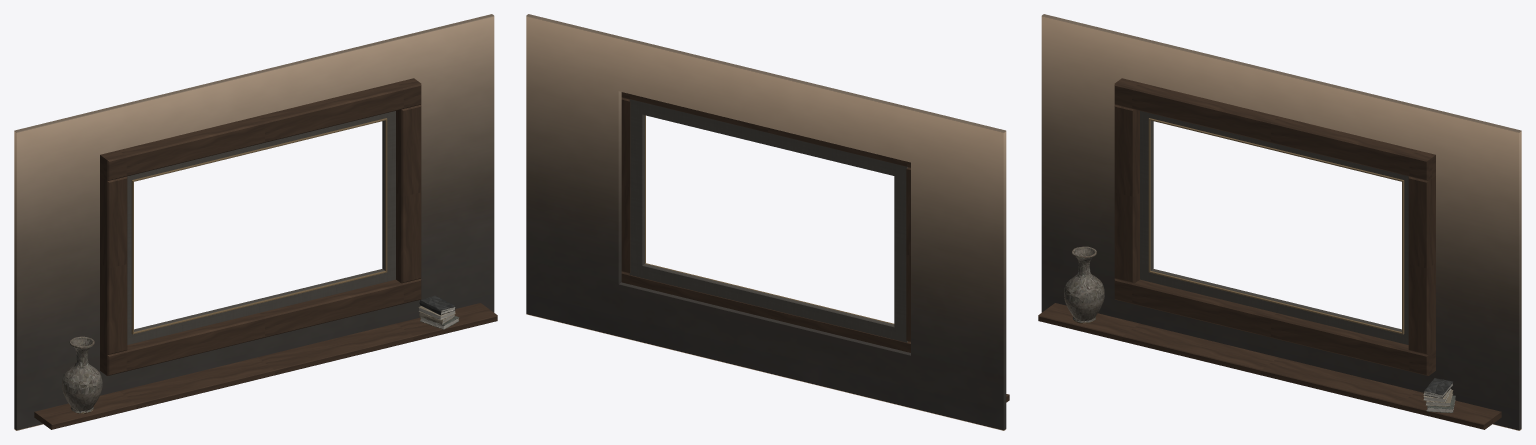
File: walnut.glb
3 renders of one model, left to right at view 1: azimuth 30°, elevation 25°; view 2: azimuth 150°, elevation 25°; view 3: azimuth 330°, elevation 25°, orthographic.
Parts seen in each view (by area): view 1: wall-panel, frame, ledge, slip, fillet, prop-vase, prop-books; view 2: wall-panel, slip, frame, fillet; view 3: wall-panel, frame, ledge, slip, fillet, prop-vase, prop-books.
Boxes of the visible parts, x1,y1,x2,y2 form: wall-panel: [14, 14, 494, 430]; frame: [100, 78, 421, 375]; ledge: [34, 303, 497, 429]; slip: [127, 111, 395, 344]; fillet: [131, 118, 387, 334]; prop-vase: [62, 336, 102, 413]; prop-books: [418, 295, 459, 329]; wall-panel: [526, 14, 1006, 430]; slip: [629, 99, 907, 342]; frame: [621, 92, 910, 352]; fillet: [645, 115, 894, 324]; wall-panel: [1041, 14, 1521, 430]; frame: [1114, 78, 1435, 375]; ledge: [1038, 303, 1501, 429]; slip: [1140, 111, 1408, 344]; fillet: [1148, 118, 1404, 334]; prop-vase: [1064, 246, 1104, 323]; prop-books: [1423, 378, 1455, 412].
Size of the model in its own units: 3.1 by 1.85 by 0.2717.
6 materials, 5 textured.
